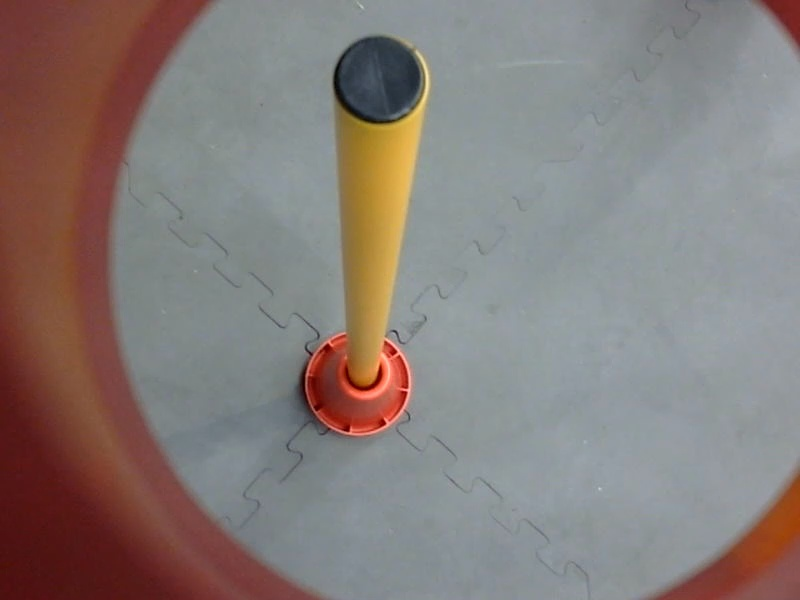tip: (328, 26, 435, 134)
